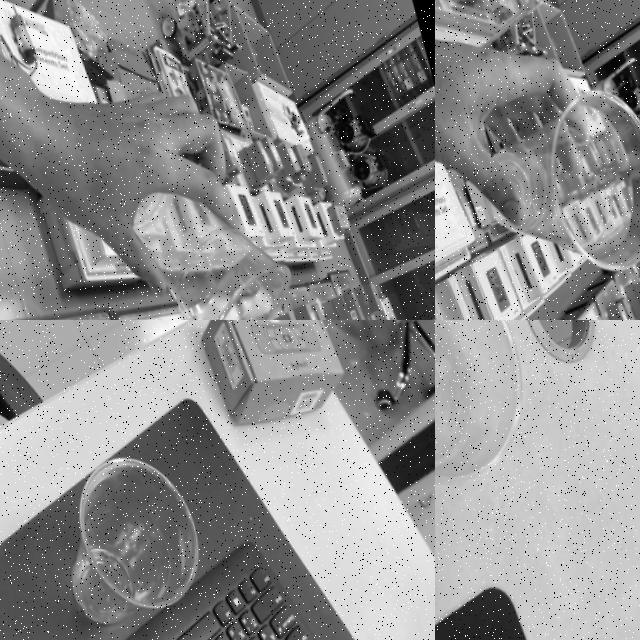glass: (453, 82, 640, 315), (30, 437, 215, 640), (111, 158, 312, 320), (435, 320, 551, 539)
